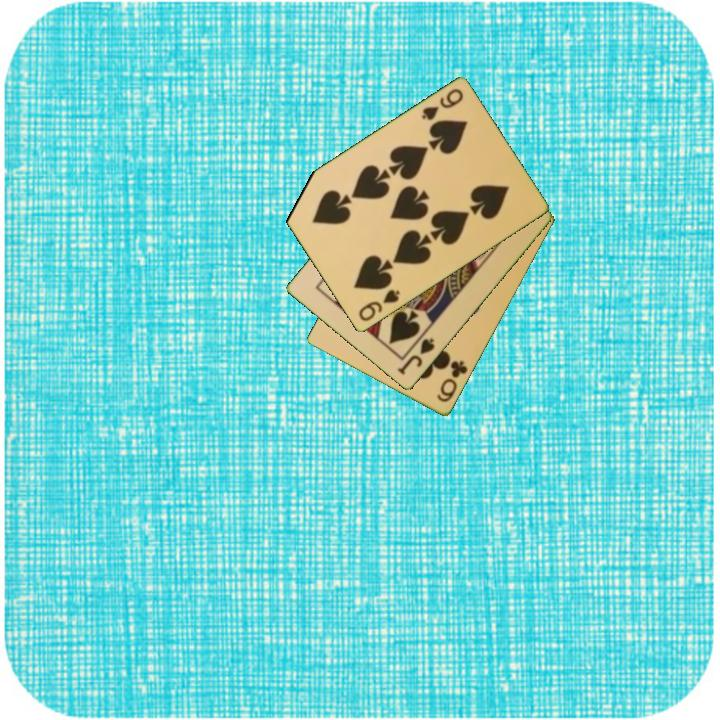6c: (433, 357, 471, 406)
9s: (355, 286, 403, 325), (418, 85, 466, 124)
Js: (394, 335, 438, 378)
